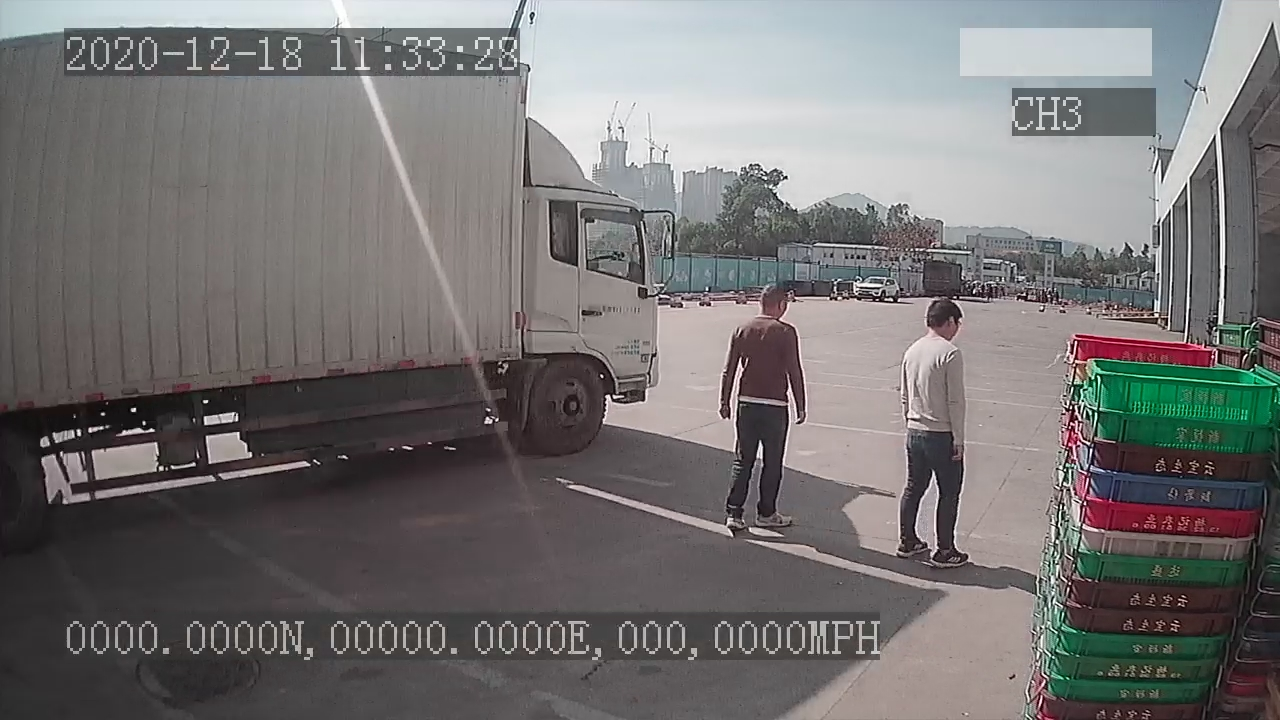person: (713, 282, 810, 535), (892, 299, 980, 571)
